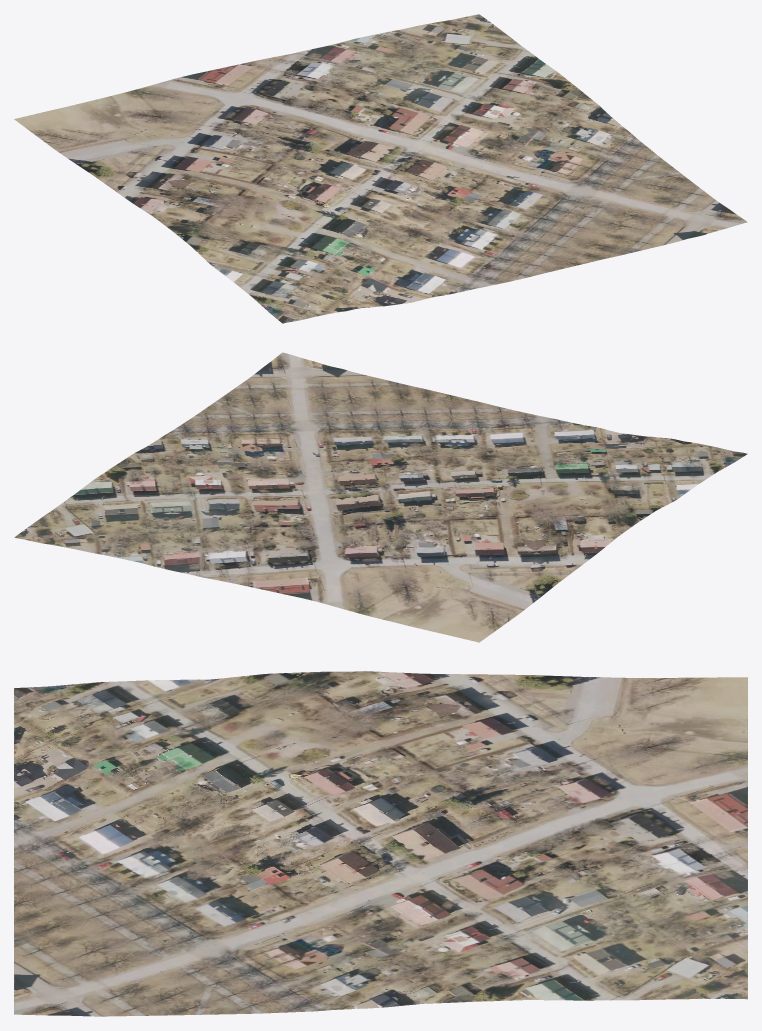
Rendered from CM_Terrain_24488615_6819589.fbx.
3 renders of one model, top to bottom at view 1: azimuth 30°, elevation 25°; view 2: azimuth 150°, elevation 25°; view 3: azimuth 270°, elevation 25°, orthographic. The views are drawn at different scales.
Visible parts, largest first — view 1: CM_Terrain_24488615_6819589_LOD0; view 2: CM_Terrain_24488615_6819589_LOD0; view 3: CM_Terrain_24488615_6819589_LOD0.
Part boxes in pixels (x1,y1,x2,y2): CM_Terrain_24488615_6819589_LOD0: (14, 14, 747, 323); CM_Terrain_24488615_6819589_LOD0: (14, 352, 747, 642); CM_Terrain_24488615_6819589_LOD0: (14, 671, 747, 1016).
Size of what is drawn, in the model's own units: 205 by 11.36 by 205.
